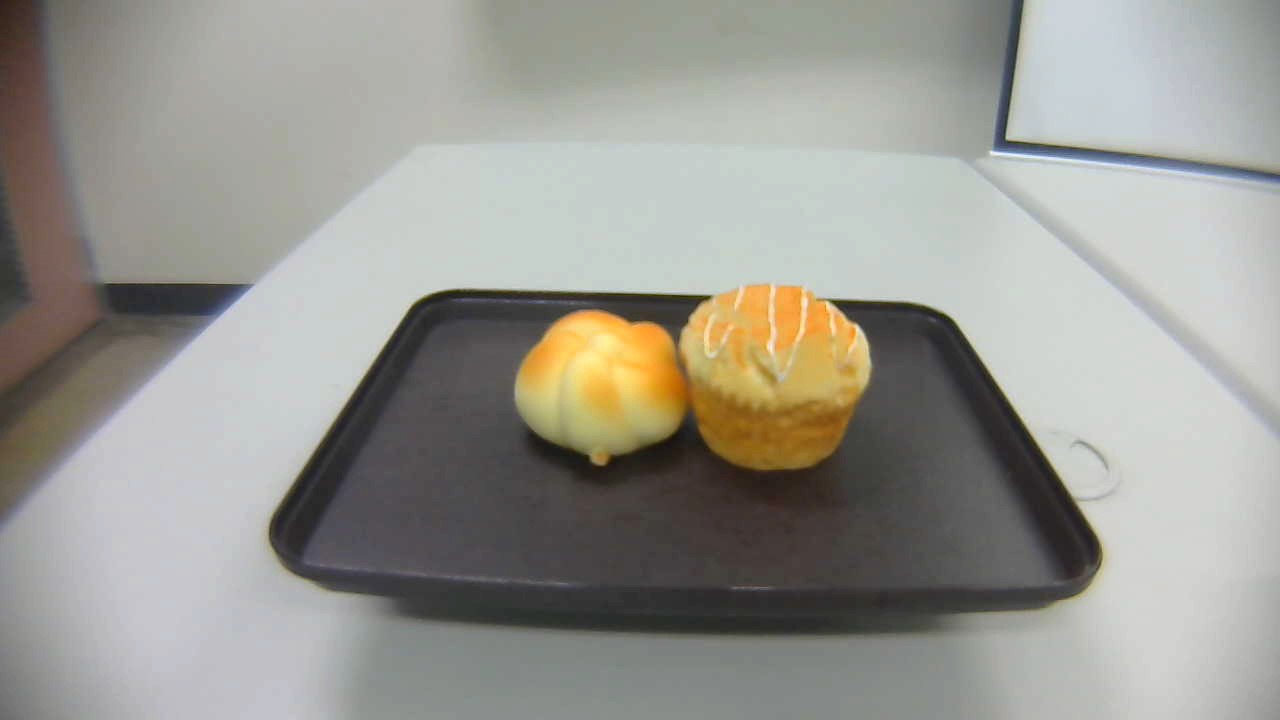cupcake: (681, 282, 873, 472)
twist bread: (513, 308, 689, 466)
